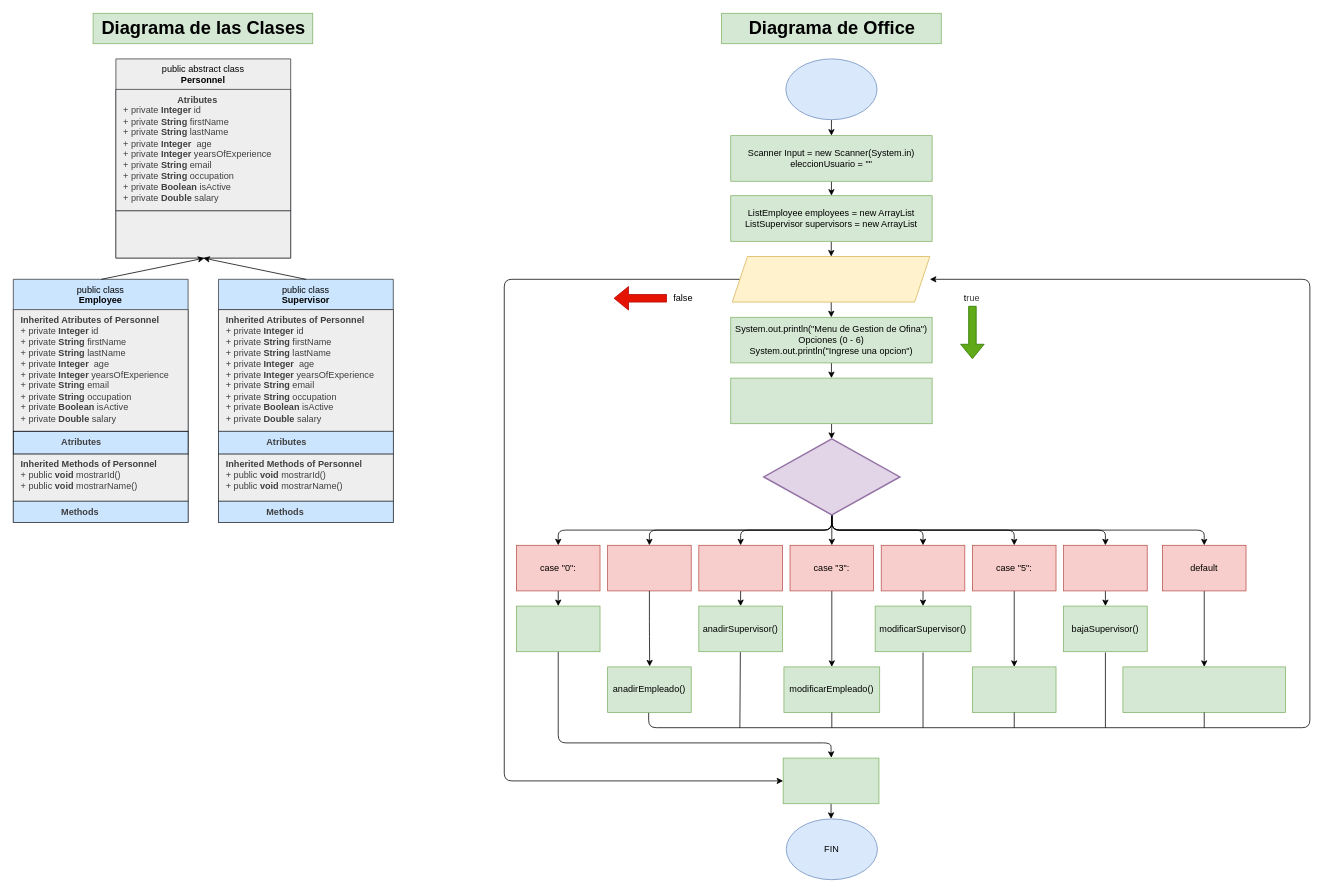
Image size: 1329x893. Some labels were removed from this diagram. Here are the shapes that lost their labels. From the top down, the box of each, then its label:
(785, 58, 877, 120): INICIO
(115, 210, 291, 258): Methods + public void mostrarId() + public void mostrarName()
(732, 256, 930, 302): while(!eleccionUsuario.equals("0"))
(730, 377, 932, 424): eleccionUsuario = input.netLine()
(763, 438, 900, 515): switch (eleccionUsuario)
(607, 545, 691, 591): case "1":
(698, 545, 782, 591): case "2":
(880, 545, 965, 591): case "4":
(1063, 545, 1147, 591): case "6":
(516, 605, 600, 652): salirPrograma()
(972, 666, 1056, 712): bajaEmpleado()
(1122, 666, 1286, 712): System.out.println("Opcion no valida")
(782, 757, 879, 804): eleccionUsuario = "0"
